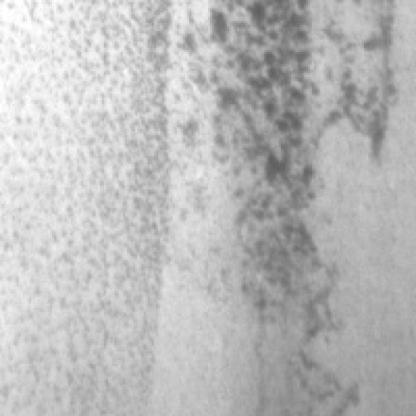pitted_surface: (187, 2, 399, 416), (2, 2, 175, 416)
